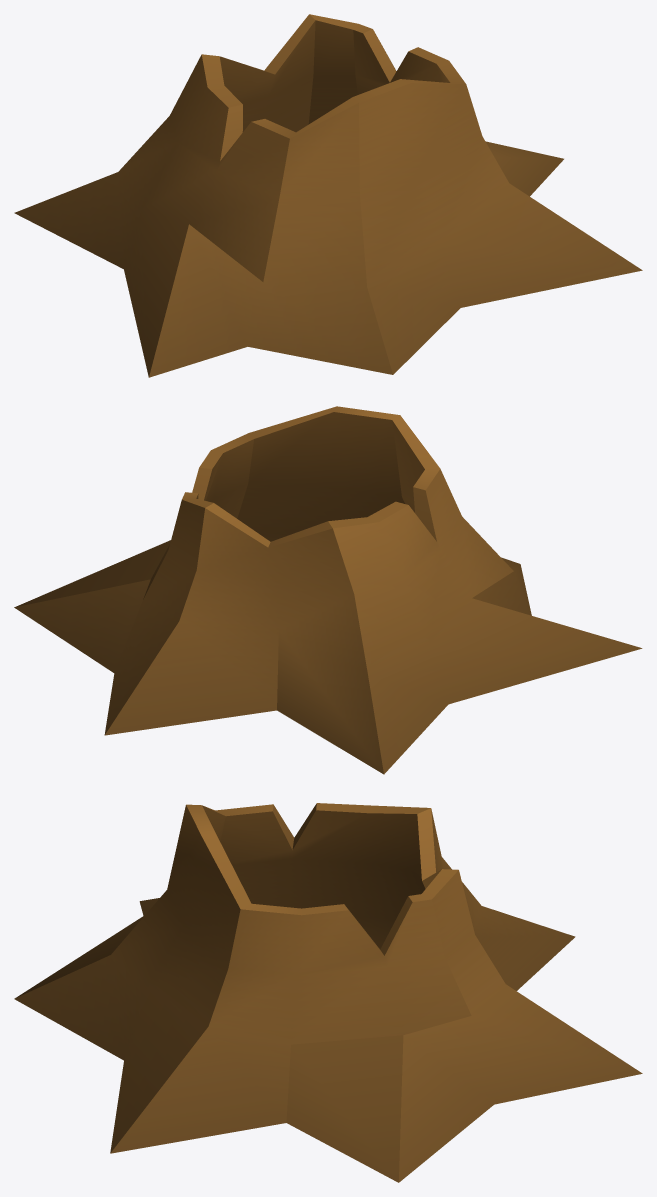
File: Bark4.fbx
3 renders of one model, top to bottom at view 1: azimuth 30°, elevation 25°; view 2: azimuth 150°, elevation 25°; view 3: azimuth 270°, elevation 25°, orthographic. The views are drawn at different scales.
Parts seen in each view (by area): view 1: Tree_Bark.008; view 2: Tree_Bark.008; view 3: Tree_Bark.008.
Boxes of the visible parts, box(x1,y1,x2,y2) form: Tree_Bark.008: box(14, 14, 642, 377); Tree_Bark.008: box(14, 406, 642, 774); Tree_Bark.008: box(14, 803, 642, 1182).
Bounding box in the file's own units: 99.96 × 36.12 × 94.31.
